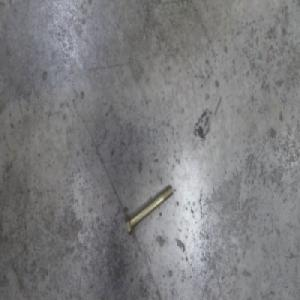Bolt: (124, 180, 174, 238)
